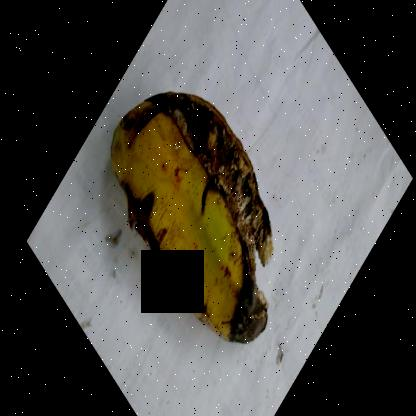rotten: (112, 93, 292, 352)
